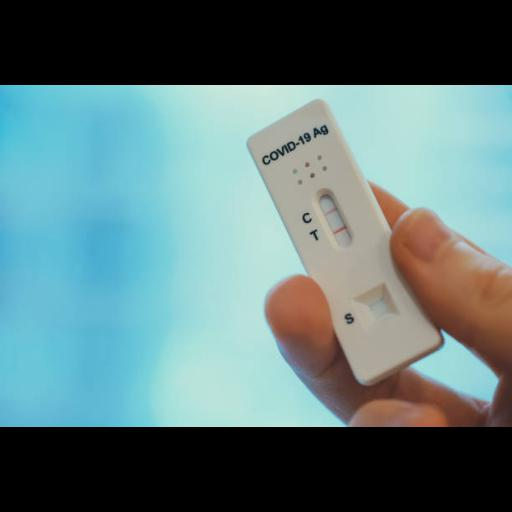Pos: (246, 95, 443, 383)
